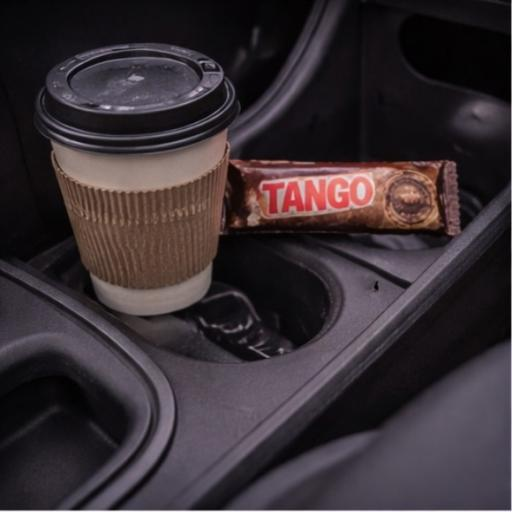tango: (198, 101, 492, 272)
